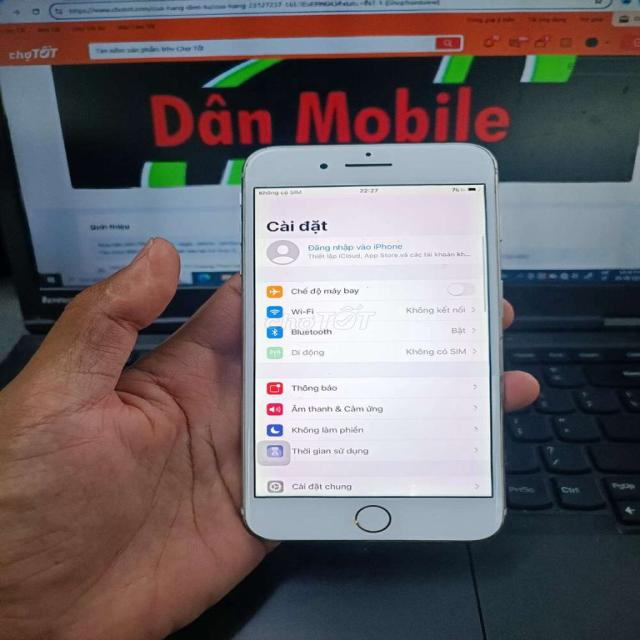gen_7_8: (240, 134, 503, 539)
